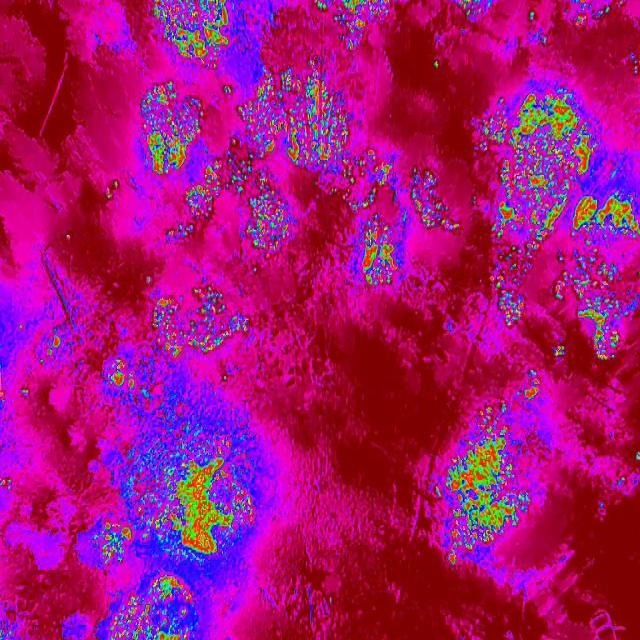fire: (474, 88, 592, 324), (92, 427, 255, 568), (432, 402, 528, 567), (238, 54, 368, 166), (326, 165, 405, 289), (148, 284, 248, 358), (109, 574, 204, 640), (138, 81, 203, 174), (152, 0, 238, 70), (248, 169, 297, 255), (592, 244, 626, 362), (408, 163, 461, 231), (140, 384, 202, 427), (591, 188, 640, 242), (317, 0, 396, 22), (198, 152, 236, 188), (102, 356, 137, 392), (562, 0, 614, 24), (182, 188, 215, 221), (337, 23, 367, 52), (40, 333, 64, 367), (455, 0, 494, 20), (514, 371, 540, 398), (163, 224, 200, 240), (235, 163, 251, 192), (0, 616, 18, 640), (627, 284, 640, 317), (530, 28, 550, 48), (104, 178, 120, 202), (629, 51, 640, 83), (550, 342, 566, 360), (0, 476, 13, 493), (18, 386, 32, 400), (614, 473, 626, 488), (222, 81, 234, 95), (526, 8, 538, 21), (368, 149, 379, 163), (18, 321, 27, 331), (618, 0, 626, 9), (252, 267, 260, 275), (327, 594, 335, 602), (432, 62, 441, 69), (64, 232, 70, 242), (636, 449, 640, 462), (222, 375, 228, 383)
